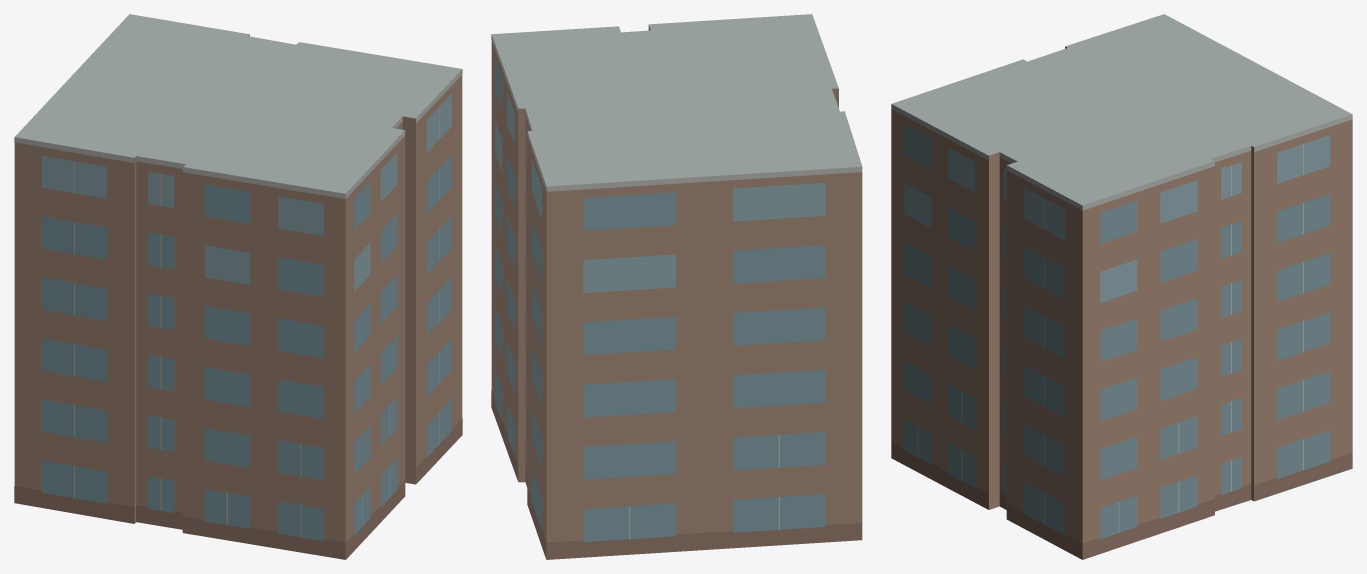
The model's file is survey-upis-32984440.glb.
3 renders of one model, left to right at view 1: azimuth 30°, elevation 25°; view 2: azimuth 150°, elevation 25°; view 3: azimuth 270°, elevation 25°, orthographic. The views are drawn at different scales.
Visible parts, largest first — view 1: survey-upis-32984440.tmp; view 2: survey-upis-32984440.tmp; view 3: survey-upis-32984440.tmp.
Part boxes in pixels (bbox=[...]): survey-upis-32984440.tmp: bbox=[14, 14, 462, 559]; survey-upis-32984440.tmp: bbox=[491, 14, 862, 559]; survey-upis-32984440.tmp: bbox=[891, 14, 1352, 559].
Size of the model in its own units: 19.85 by 17.1 by 20.19.
